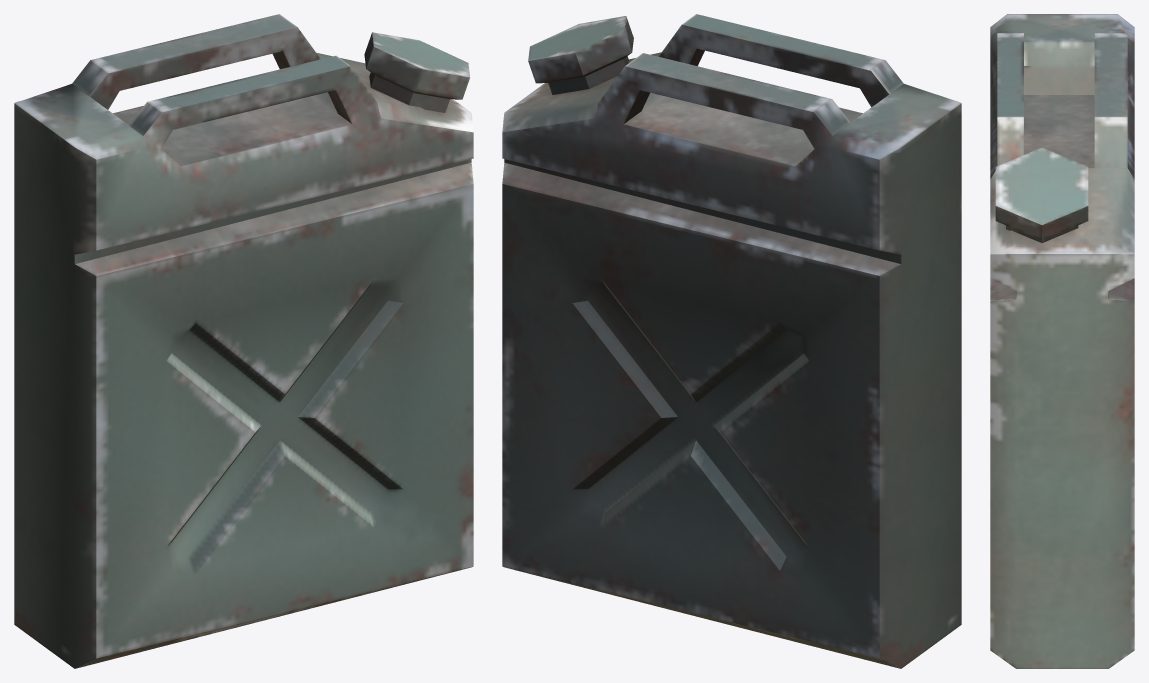
The model's file is GasCan.fbx.
3 views of the same model, side by side, from view 1: azimuth 30°, elevation 25°; view 2: azimuth 150°, elevation 25°; view 3: azimuth 270°, elevation 25° (orthographic). The views are drawn at different scales.
Parts seen in each view (by area): view 1: GasCan; view 2: GasCan; view 3: GasCan.
Part boxes in pixels (bbox=[...]): GasCan: bbox=[14, 14, 473, 668]; GasCan: bbox=[502, 14, 961, 668]; GasCan: bbox=[990, 14, 1134, 668].
Bounding box in the file's own units: 20.95 × 26.23 × 6.95.
